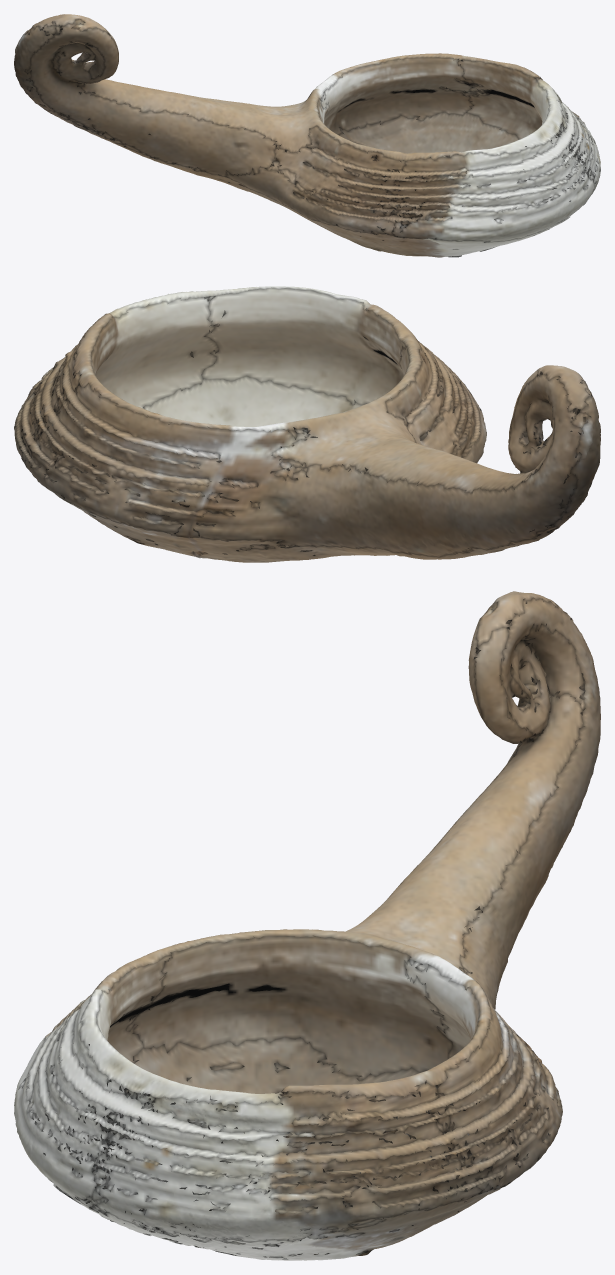
Rendered from ashurbanipal.glb.
3 views of the same model, one above another, from view 1: azimuth 30°, elevation 25°; view 2: azimuth 150°, elevation 25°; view 3: azimuth 270°, elevation 25° (orthographic). The views are drawn at different scales.
Visible parts, largest first — view 1: Object_2, Object_3; view 2: Object_2, Object_3; view 3: Object_2, Object_3.
Boxes of the visible parts, bbox=[...] form: Object_2: bbox=[14, 15, 600, 257]; Object_3: bbox=[17, 14, 600, 255]; Object_2: bbox=[30, 286, 600, 562]; Object_3: bbox=[14, 288, 600, 555]; Object_2: bbox=[14, 597, 600, 1260]; Object_3: bbox=[79, 591, 565, 1260].
Size of the model in its own units: 51.4 by 22.83 by 33.31.
1 material, 1 textured.
